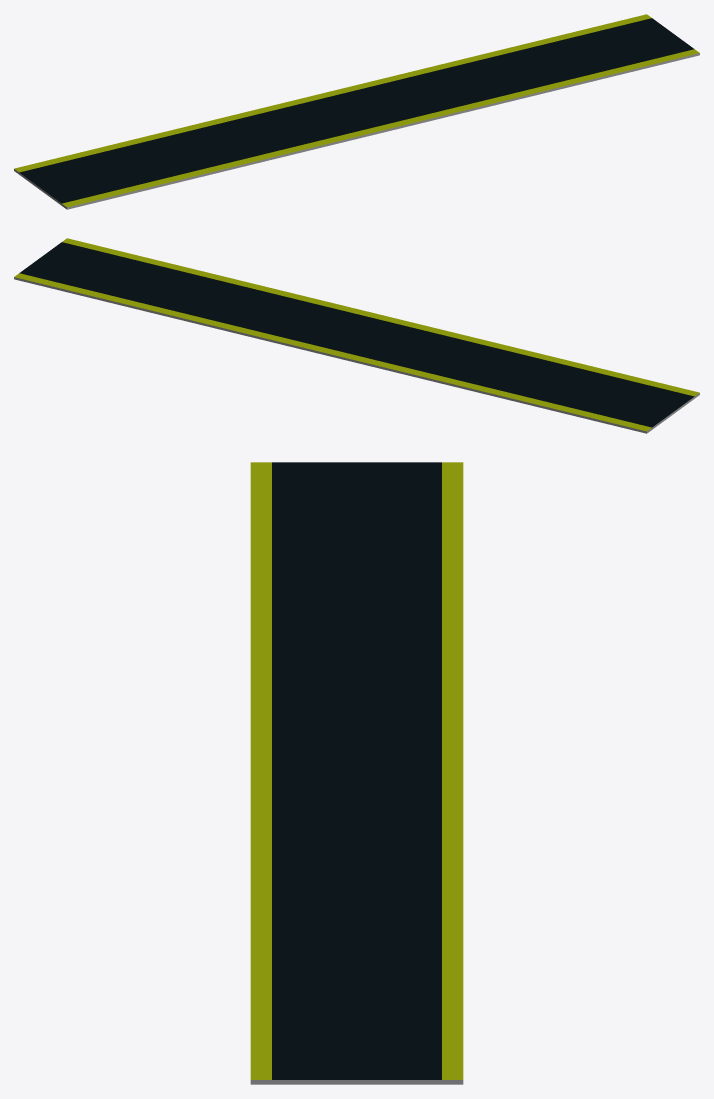
File: Matt.fbx
3 views of the same model, one above another, from view 1: azimuth 30°, elevation 25°; view 2: azimuth 150°, elevation 25°; view 3: azimuth 270°, elevation 25° (orthographic). The views are drawn at different scales.
Parts seen in each view (by area): view 1: pCube32; view 2: pCube32; view 3: pCube32.
Part boxes in pixels (x1,y1,x2,y2): pCube32: [14, 14, 699, 209]; pCube32: [14, 238, 699, 433]; pCube32: [250, 462, 463, 1084].
Size of the model in its own units: 29.48 by 0.1022 by 4.28.
